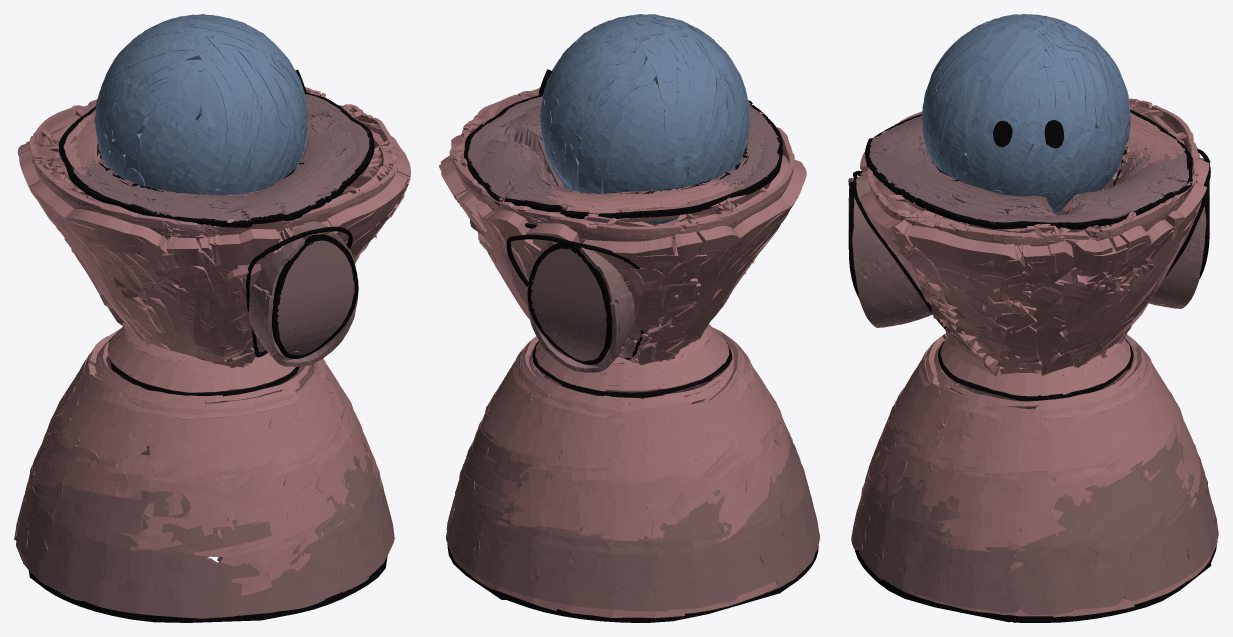
File: Character.glb
3 renders of one model, left to right at view 1: azimuth 30°, elevation 25°; view 2: azimuth 150°, elevation 25°; view 3: azimuth 270°, elevation 25°, orthographic. The views are drawn at different scales.
Parts seen in each view (by area): view 1: node_2; view 2: node_2; view 3: node_2.
Boxes of the visible parts, x1,y1,x2,y2 form: node_2: (14, 14, 410, 622); node_2: (439, 14, 819, 622); node_2: (848, 14, 1218, 622).
Size of the model in its own units: 2.02 by 3.01 by 1.95.
